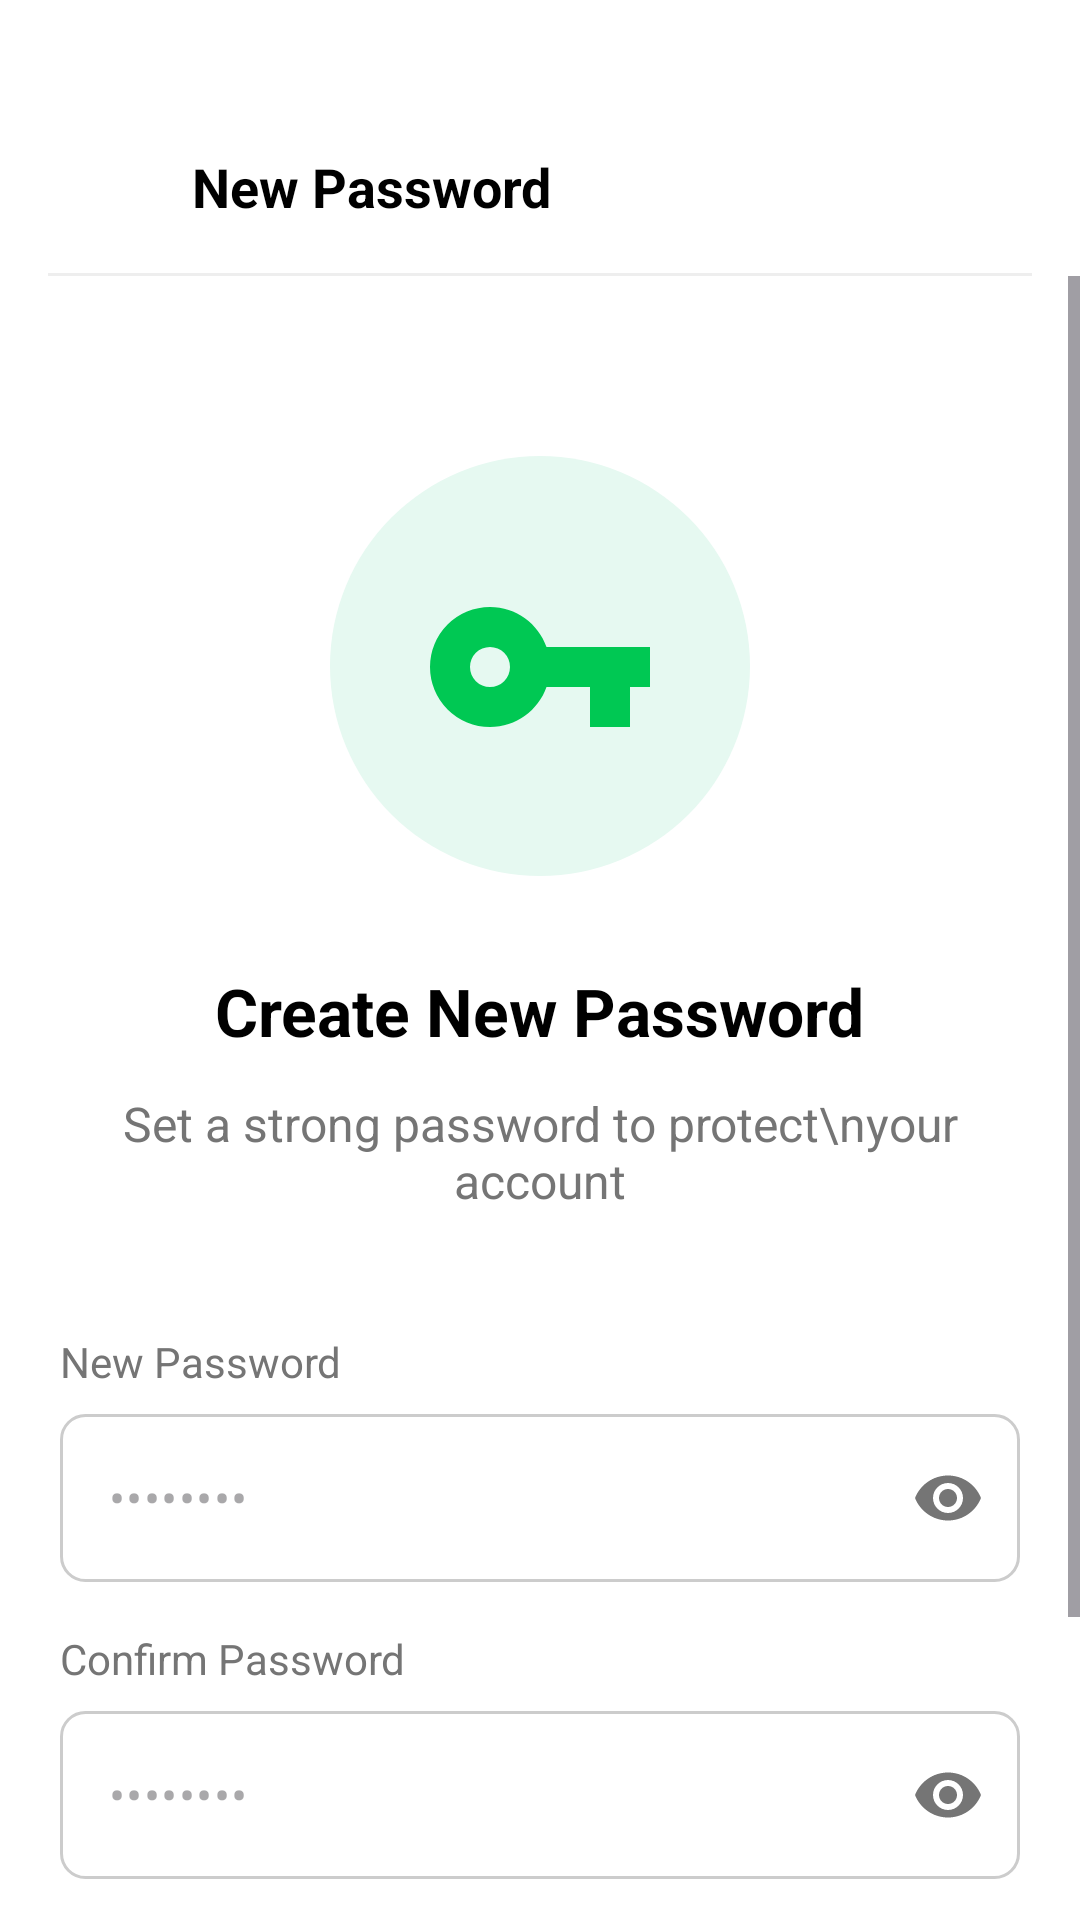

Screen size 1080px×1920px. Icon name, then its center in pixels as point (x, y):
key: point (540, 667)
